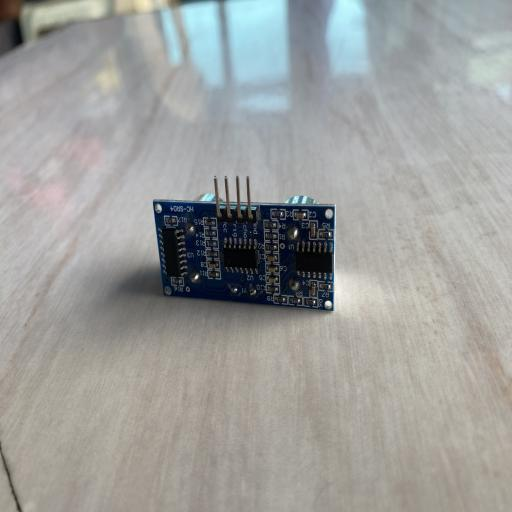Ultrasonic Sensor: (152, 174, 337, 314)
